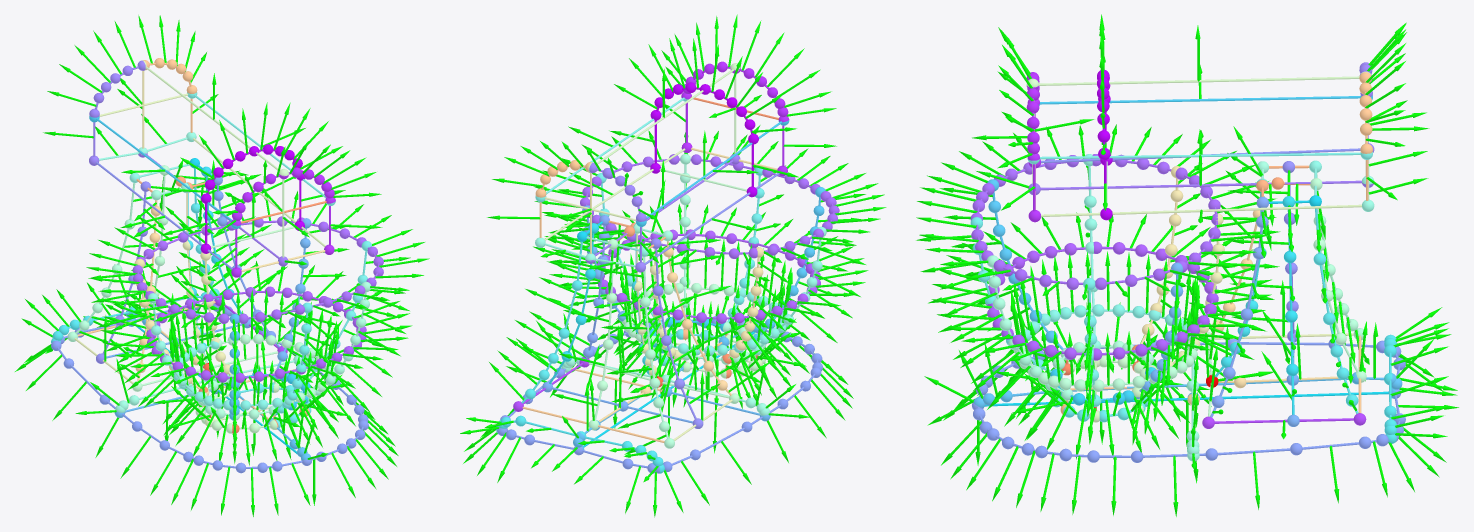
Rendered from t2f_blender.gltf.
3 views of the same model, side by side, from view 1: azimuth 30°, elevation 25°; view 2: azimuth 150°, elevation 25°; view 3: azimuth 270°, elevation 25° (orthographic). The views are drawn at different scales.
Bounding box in the file's own units: 0.6605 × 0.7687 × 0.866.
